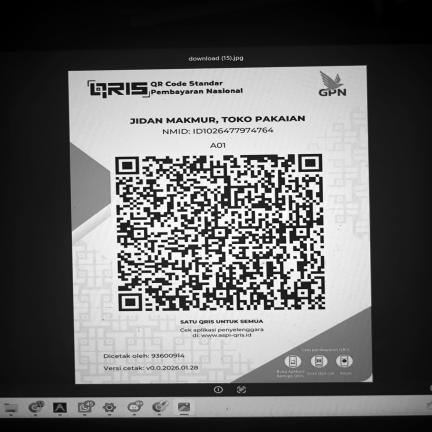Cara Pakai QRIS: (270, 346, 372, 381)
Cek Aplikasi Penyelenggara: (177, 326, 268, 340)
Dicetak Oleh: (99, 352, 189, 360)
Logo GPN: (310, 69, 352, 101)
Logo dan deskripsi QRIS: (82, 73, 251, 101)
Nama Merchant: (123, 113, 309, 126)
National Merchant ID: (158, 125, 279, 137)
QR Code: (111, 151, 331, 314)
Slogan: (177, 317, 266, 325)
Terminal ID: (208, 141, 228, 150)
Versi Cetak: (100, 364, 203, 371)
